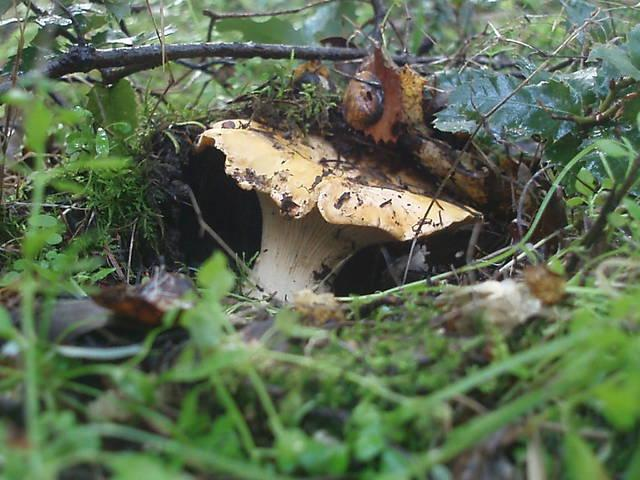Edible Mushroom: (188, 116, 484, 308)
